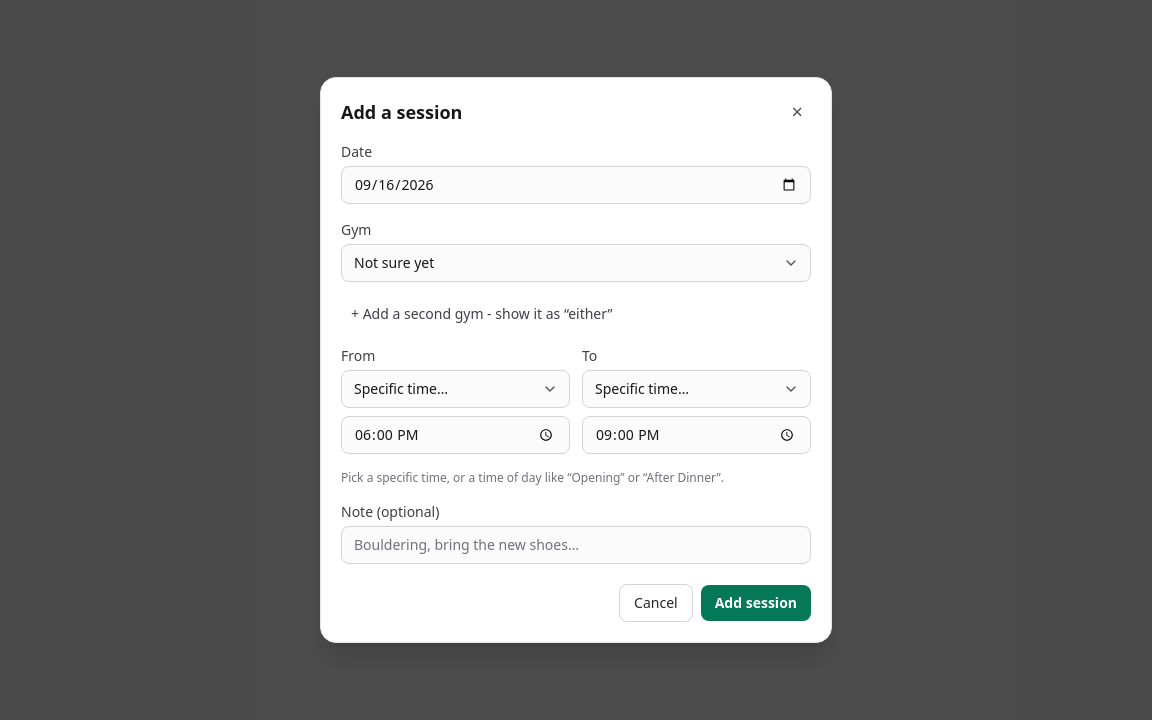
<SessionFormModal /> › reveals the free-text gym name field when Other is picked
Expected: the field labelled "Gym name" is not shown
Select "Other (type it in)" in the dropdown labelled "Gym": [576, 263] box [341,244,811,282]
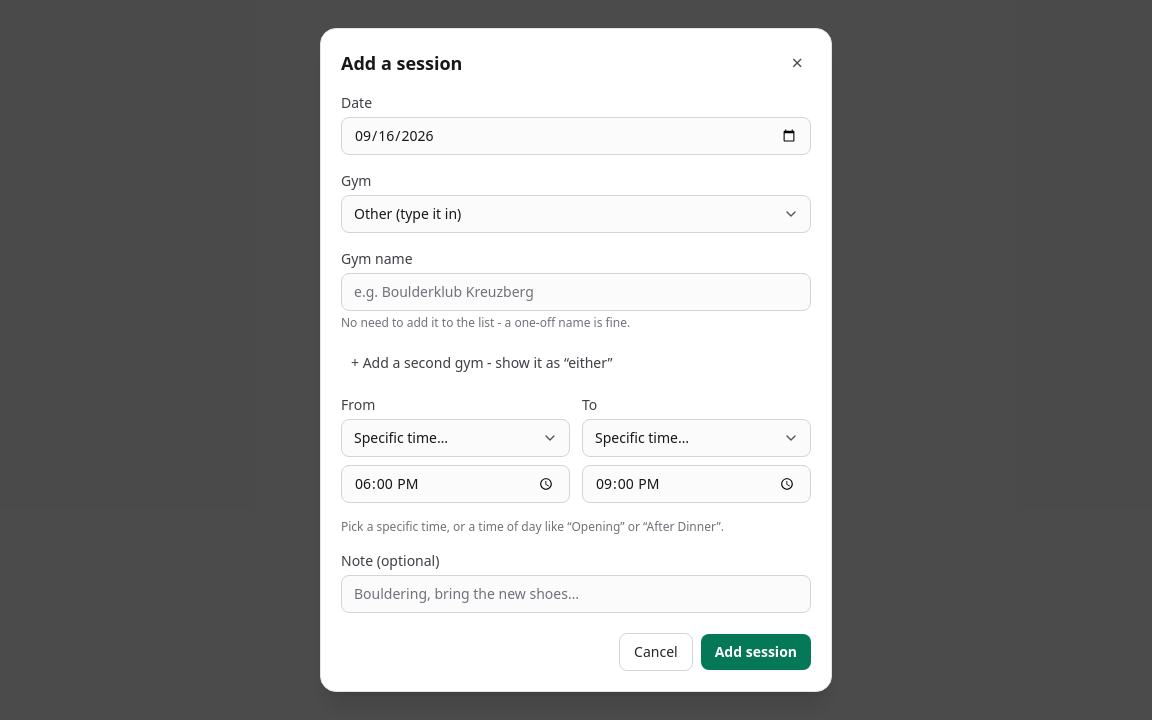
Now the field labelled "Gym name" is shown, box [341,273,811,311]
